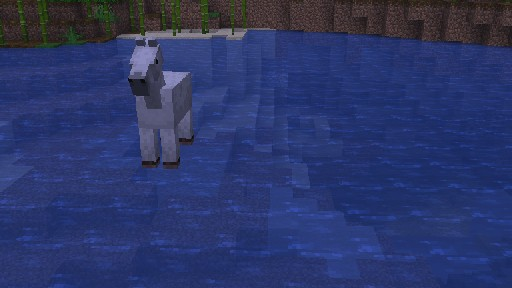horse: (127, 35, 193, 168)
